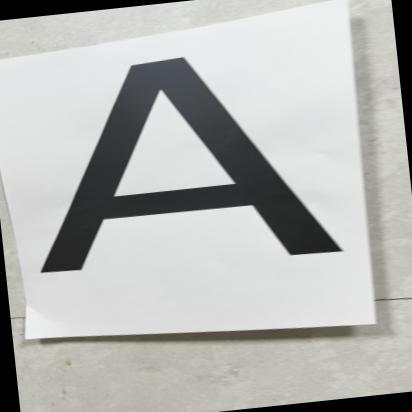seat: (22, 41, 314, 288)
